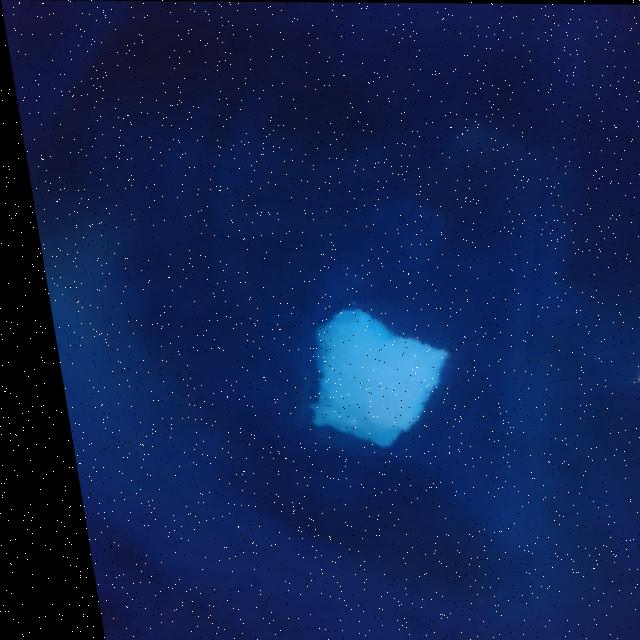litter: (246, 281, 483, 456)
